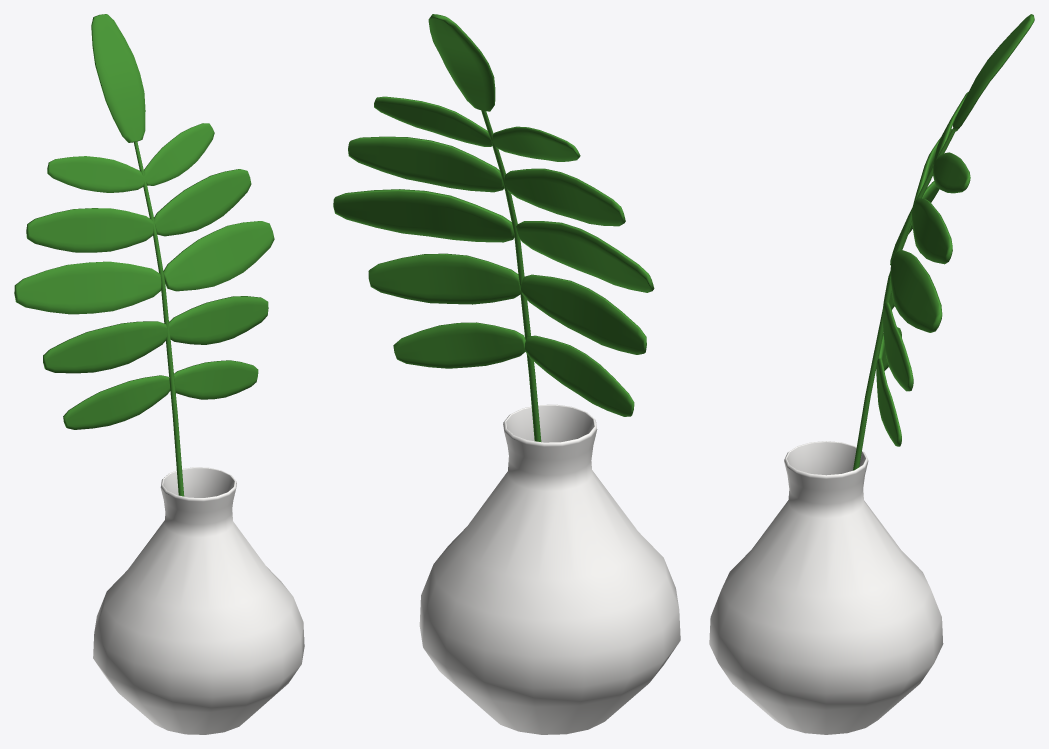
File: Plant_Vase_with_plant_4.glb
3 views of the same model, side by side, from view 1: azimuth 30°, elevation 25°; view 2: azimuth 150°, elevation 25°; view 3: azimuth 270°, elevation 25° (orthographic). The views are drawn at different scales.
Visible parts, largest first — view 1: Vase_with_plant_4; view 2: Vase_with_plant_4; view 3: Vase_with_plant_4.
Part boxes in pixels (box(x1,y1,x2,y2)): Vase_with_plant_4: box(14, 14, 304, 734); Vase_with_plant_4: box(333, 14, 680, 734); Vase_with_plant_4: box(709, 14, 1034, 734).
Bounding box in the file's own units: 0.3814 × 0.8979 × 0.3808.
2 materials, 2 textured.
